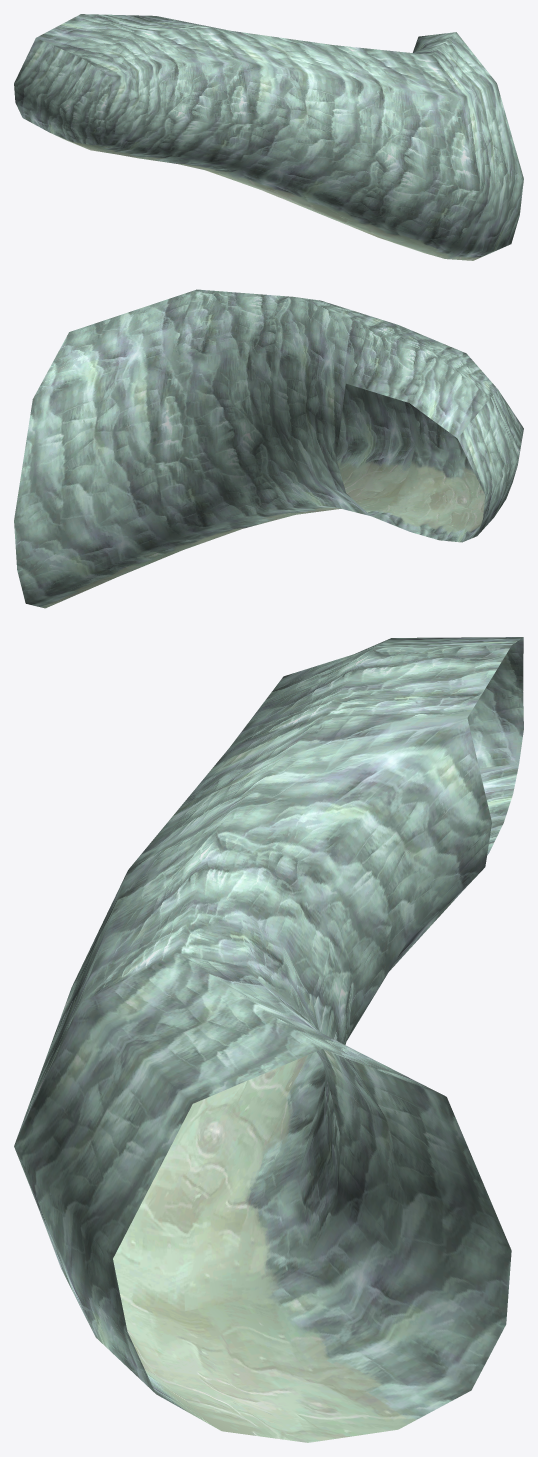
File: TROLLHOLE02_PS-MAINCAVE11.fbx
3 views of the same model, one above another, from view 1: azimuth 30°, elevation 25°; view 2: azimuth 150°, elevation 25°; view 3: azimuth 270°, elevation 25° (orthographic). The views are drawn at different scales.
Parts seen in each view (by area): view 1: TROLLHOLE02_PS-MAINCAVE11; view 2: TROLLHOLE02_PS-MAINCAVE11; view 3: TROLLHOLE02_PS-MAINCAVE11.
Part boxes in pixels (x1,y1,x2,y2): TROLLHOLE02_PS-MAINCAVE11: [14, 14, 523, 260]; TROLLHOLE02_PS-MAINCAVE11: [14, 289, 523, 608]; TROLLHOLE02_PS-MAINCAVE11: [14, 637, 523, 1442].
Size of the model in its own units: 217639 by 144053 by 130026.
Materials: 3 (3 with a texture image).
